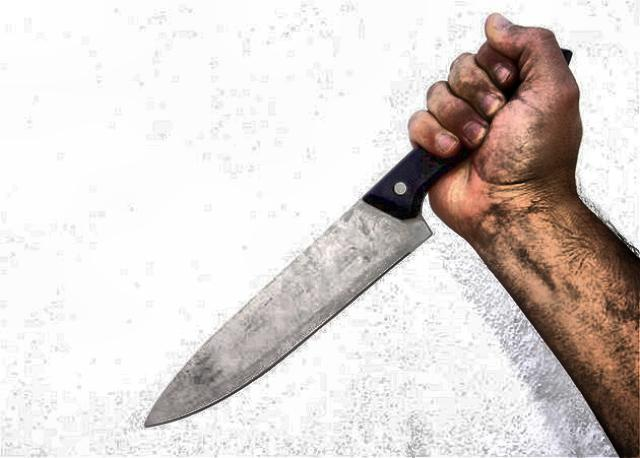knife: (133, 88, 509, 437)
